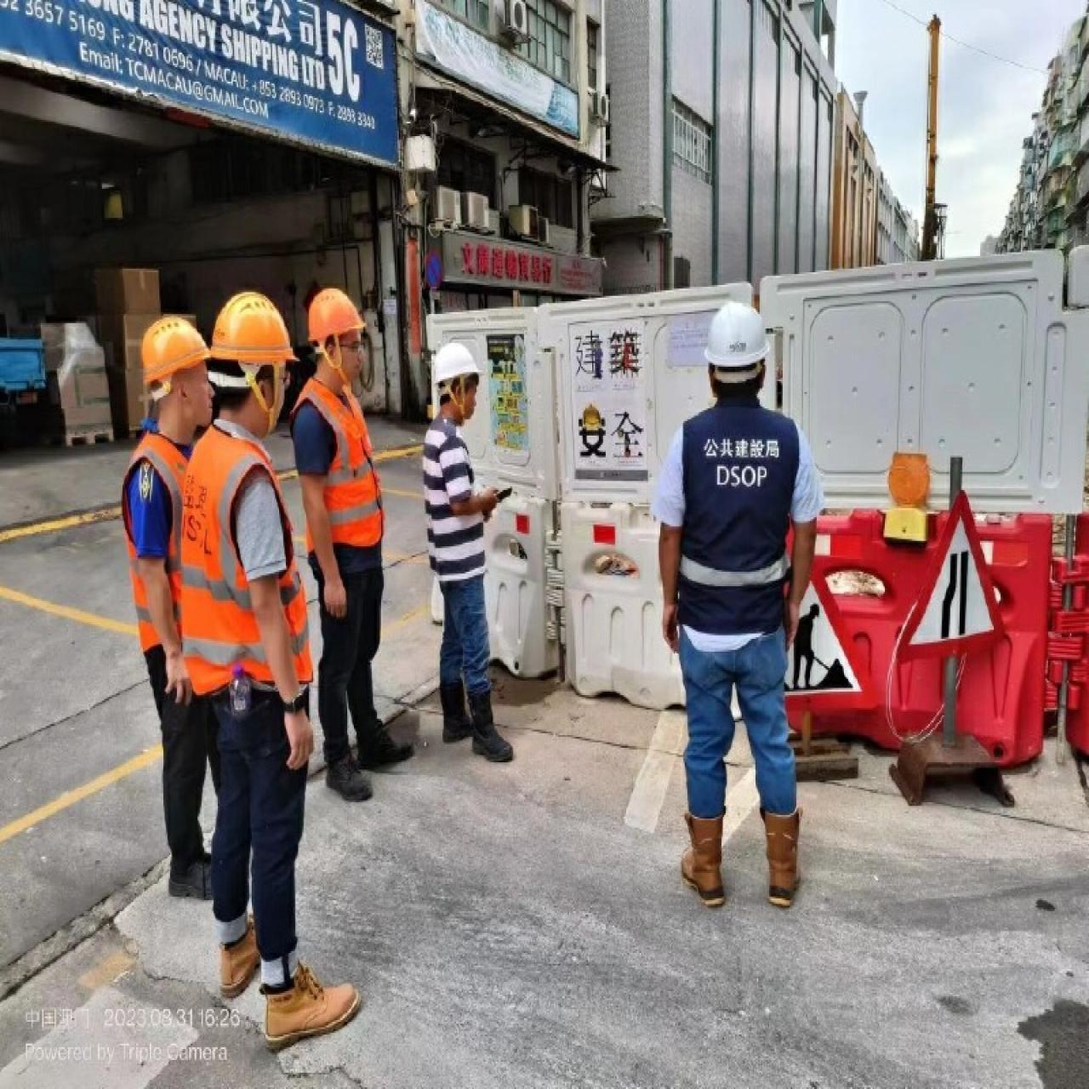NO_Safety_Vest: (656, 392, 820, 644), (419, 409, 496, 583)
Person: (627, 274, 848, 928), (177, 274, 357, 1036), (286, 274, 416, 807), (118, 303, 218, 883), (417, 326, 520, 770)
Safety_Vest: (176, 418, 321, 708), (118, 424, 200, 676), (287, 369, 393, 563)
